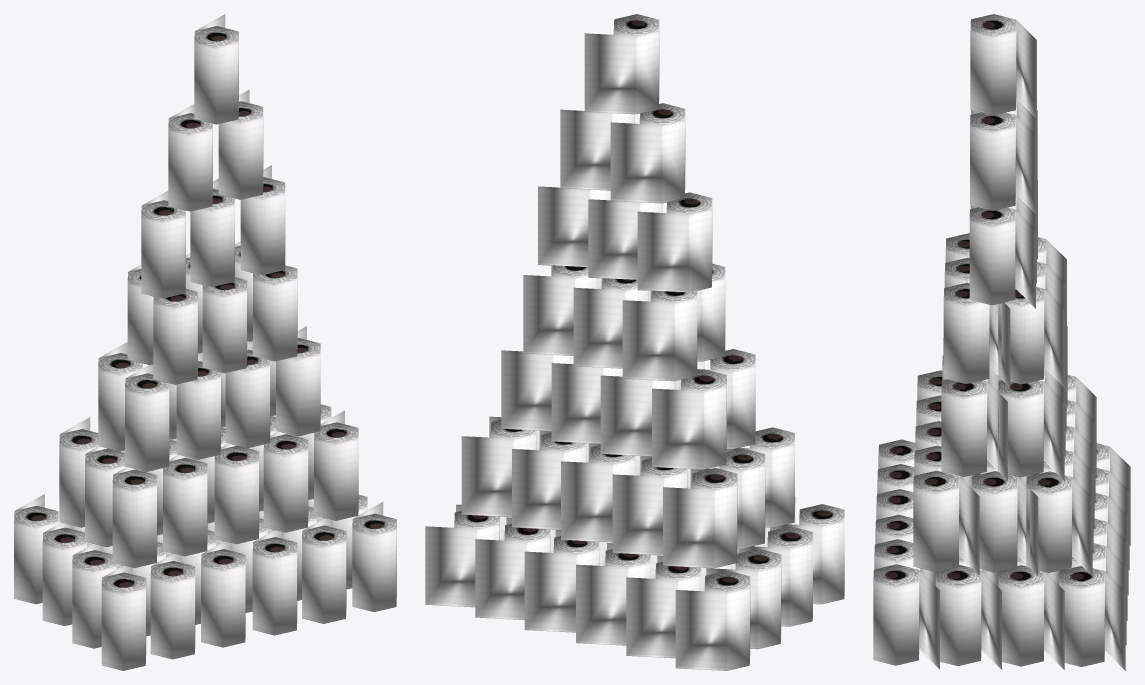
File: toiletrollstack.obj
3 views of the same model, side by side, from view 1: azimuth 30°, elevation 25°; view 2: azimuth 150°, elevation 25°; view 3: azimuth 270°, elevation 25° (orthographic). The views are drawn at different scales.
Visible parts, largest first — view 1: default; view 2: default; view 3: default.
Boxes of the visible parts, <box> form: default: <box>14,14,396,670</box>; default: <box>425,14,844,670</box>; default: <box>873,14,1130,670</box>.
Size of the model in its own units: 0.4996 by 0.8781 by 0.3568.
Materials: 1 (1 with a texture image).
